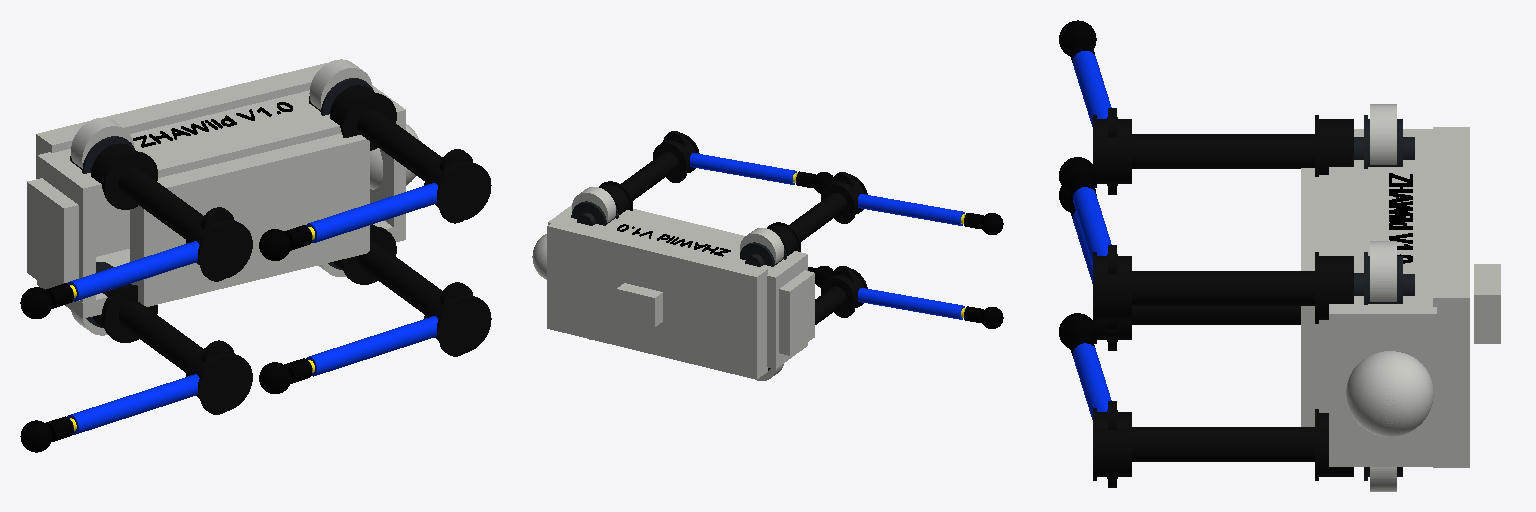
The robot description file, URDF, robot "zhawild_v1_0":
<?xml version="1.0"?>
<robot name="zhawild_v1_0" xmlns:texttocad="https://tom-cad.dev/ns/texttocad-urdf/1">
  <material name="alu_natural"><color rgba="0.78 0.78 0.76 1"/></material>
  <material name="carbon_black"><color rgba="0.08 0.08 0.08 1"/></material>
  <material name="actuator_dark"><color rgba="0.14 0.16 0.18 1"/></material>
  <material name="rubber_black"><color rgba="0.04 0.04 0.04 1"/></material>
  <material name="brand_black"><color rgba="0.005 0.005 0.005 1"/></material>
  <material name="sensor_grey"><color rgba="0.55 0.57 0.58 1"/></material>
  <material name="debug_clevis_magenta"><color rgba="0.95 0.10 0.85 1"/></material>
  <material name="debug_shank_blue"><color rgba="0.05 0.25 1.00 1"/></material>
  <material name="debug_ankle_orange"><color rgba="1.00 0.45 0.02 1"/></material>
  <material name="debug_spring_yellow"><color rgba="1.00 0.92 0.05 1"/></material>

  <link name="base_link">
    <inertial>
      <origin xyz="0 0.52 0" rpy="0 0 0"/>
      <mass value="17.5"/>
      <inertia ixx="0.128479" ixy="0" ixz="0" iyy="0.707292" iyz="0" izz="0.653479"/>
    </inertial>
    <visual>
      <origin xyz="0 0.52 0" rpy="0 0 0"/>
      <geometry><mesh filename="quadruped2_torso.stl"/></geometry>
      <material name="alu_natural"/>
    </visual>
    <visual>
      <origin xyz="0 0.545 0.128" rpy="0 0 0"/>
      <geometry><mesh filename="quadruped2_label.stl"/></geometry>
      <material name="brand_black"/>
    </visual>
    <collision>
      <origin xyz="0 0.52 0" rpy="0 0 0"/>
      <geometry><box size="0.65 0.16 0.25"/></geometry>
    </collision>
  </link>

  <link name="fl_hip_link">
    <inertial>
      <origin xyz="0 -0.036 0" rpy="0 0 0"/>
      <mass value="0.8"/>
      <inertia ixx="0.00158747" ixy="0" ixz="0" iyy="0.0009216" iyz="0" izz="0.00158747"/>
    </inertial>
    <visual>
      <geometry><mesh filename="quadruped2_hip.stl"/></geometry>
      <material name="actuator_dark"/>
    </visual>
    <collision>
      <origin xyz="0 -0.036 0" rpy="1.5708 0 0"/>
      <geometry><cylinder radius="0.054" length="0.13"/></geometry>
    </collision>
  </link>

  <link name="fl_thigh_link">
    <inertial>
      <origin xyz="0 -0.165 0" rpy="0 0 0"/>
      <mass value="1.6"/>
      <inertia ixx="0.0154416" ixy="0" ixz="0" iyy="0.0018432" iyz="0" izz="0.0154416"/>
    </inertial>
    <visual>
      <geometry><mesh filename="quadruped2_thigh.stl"/></geometry>
      <material name="carbon_black"/>
    </visual>
    <collision>
      <origin xyz="0 -0.165 0" rpy="1.5708 0 0"/>
      <geometry><cylinder radius="0.054" length="0.33"/></geometry>
    </collision>
  </link>

  <link name="fl_shank_link">
    <inertial>
      <origin xyz="0 -0.165 0" rpy="0 0 0"/>
      <mass value="1"/>
      <inertia ixx="0.009156" ixy="0" ixz="0" iyy="0.000162" iyz="0" izz="0.009156"/>
    </inertial>
    <visual>
      <geometry><mesh filename="quadruped2_shank_clevis.stl"/></geometry>
      <material name="debug_clevis_magenta"/>
    </visual>
    <visual>
      <geometry><mesh filename="quadruped2_shank_tube.stl"/></geometry>
      <material name="debug_shank_blue"/>
    </visual>
    <visual>
      <geometry><mesh filename="quadruped2_shank_ankle_cube.stl"/></geometry>
      <material name="debug_ankle_orange"/>
    </visual>
    <visual>
      <geometry><mesh filename="quadruped2_shank_spring_stub.stl"/></geometry>
      <material name="debug_spring_yellow"/>
    </visual>
    <collision>
      <origin xyz="0 -0.165 0" rpy="1.5708 0 0"/>
      <geometry><cylinder radius="0.024" length="0.33"/></geometry>
    </collision>
  </link>

  <link name="fl_foot_link">
    <inertial>
      <origin xyz="0 -0.068 0" rpy="0 0 0"/>
      <mass value="0.18"/>
      <inertia ixx="5.6448e-05" ixy="0" ixz="0" iyy="5.6448e-05" iyz="0" izz="5.6448e-05"/>
    </inertial>
    <visual>
      <geometry><mesh filename="quadruped2_foot.stl"/></geometry>
      <material name="rubber_black"/>
    </visual>
    <collision>
      <origin xyz="0 -0.068 0" rpy="0 0 0"/>
      <geometry><sphere radius="0.028"/></geometry>
    </collision>
  </link>

  <link name="fr_hip_link">
    <inertial>
      <origin xyz="0 -0.036 0" rpy="0 0 0"/>
      <mass value="0.8"/>
      <inertia ixx="0.00158747" ixy="0" ixz="0" iyy="0.0009216" iyz="0" izz="0.00158747"/>
    </inertial>
    <visual>
      <geometry><mesh filename="quadruped2_hip.stl"/></geometry>
      <material name="actuator_dark"/>
    </visual>
    <collision>
      <origin xyz="0 -0.036 0" rpy="1.5708 0 0"/>
      <geometry><cylinder radius="0.054" length="0.13"/></geometry>
    </collision>
  </link>

  <link name="fr_thigh_link">
    <inertial>
      <origin xyz="0 -0.165 0" rpy="0 0 0"/>
      <mass value="1.6"/>
      <inertia ixx="0.0154416" ixy="0" ixz="0" iyy="0.0018432" iyz="0" izz="0.0154416"/>
    </inertial>
    <visual>
      <geometry><mesh filename="quadruped2_thigh.stl"/></geometry>
      <material name="carbon_black"/>
    </visual>
    <collision>
      <origin xyz="0 -0.165 0" rpy="1.5708 0 0"/>
      <geometry><cylinder radius="0.054" length="0.33"/></geometry>
    </collision>
  </link>

  <link name="fr_shank_link">
    <inertial>
      <origin xyz="0 -0.165 0" rpy="0 0 0"/>
      <mass value="1"/>
      <inertia ixx="0.009156" ixy="0" ixz="0" iyy="0.000162" iyz="0" izz="0.009156"/>
    </inertial>
    <visual>
      <geometry><mesh filename="quadruped2_shank_clevis.stl"/></geometry>
      <material name="debug_clevis_magenta"/>
    </visual>
    <visual>
      <geometry><mesh filename="quadruped2_shank_tube.stl"/></geometry>
      <material name="debug_shank_blue"/>
    </visual>
    <visual>
      <geometry><mesh filename="quadruped2_shank_ankle_cube.stl"/></geometry>
      <material name="debug_ankle_orange"/>
    </visual>
    <visual>
      <geometry><mesh filename="quadruped2_shank_spring_stub.stl"/></geometry>
      <material name="debug_spring_yellow"/>
    </visual>
    <collision>
      <origin xyz="0 -0.165 0" rpy="1.5708 0 0"/>
      <geometry><cylinder radius="0.024" length="0.33"/></geometry>
    </collision>
  </link>

  <link name="fr_foot_link">
    <inertial>
      <origin xyz="0 -0.068 0" rpy="0 0 0"/>
      <mass value="0.18"/>
      <inertia ixx="5.6448e-05" ixy="0" ixz="0" iyy="5.6448e-05" iyz="0" izz="5.6448e-05"/>
    </inertial>
    <visual>
      <geometry><mesh filename="quadruped2_foot.stl"/></geometry>
      <material name="rubber_black"/>
    </visual>
    <collision>
      <origin xyz="0 -0.068 0" rpy="0 0 0"/>
      <geometry><sphere radius="0.028"/></geometry>
    </collision>
  </link>

  <link name="rl_hip_link">
    <inertial>
      <origin xyz="0 -0.036 0" rpy="0 0 0"/>
      <mass value="0.8"/>
      <inertia ixx="0.00158747" ixy="0" ixz="0" iyy="0.0009216" iyz="0" izz="0.00158747"/>
    </inertial>
    <visual>
      <geometry><mesh filename="quadruped2_hip.stl"/></geometry>
      <material name="actuator_dark"/>
    </visual>
    <collision>
      <origin xyz="0 -0.036 0" rpy="1.5708 0 0"/>
      <geometry><cylinder radius="0.054" length="0.13"/></geometry>
    </collision>
  </link>

  <link name="rl_thigh_link">
    <inertial>
      <origin xyz="0 -0.165 0" rpy="0 0 0"/>
      <mass value="1.6"/>
      <inertia ixx="0.0154416" ixy="0" ixz="0" iyy="0.0018432" iyz="0" izz="0.0154416"/>
    </inertial>
    <visual>
      <geometry><mesh filename="quadruped2_thigh.stl"/></geometry>
      <material name="carbon_black"/>
    </visual>
    <collision>
      <origin xyz="0 -0.165 0" rpy="1.5708 0 0"/>
      <geometry><cylinder radius="0.054" length="0.33"/></geometry>
    </collision>
  </link>

  <link name="rl_shank_link">
    <inertial>
      <origin xyz="0 -0.165 0" rpy="0 0 0"/>
      <mass value="1"/>
      <inertia ixx="0.009156" ixy="0" ixz="0" iyy="0.000162" iyz="0" izz="0.009156"/>
    </inertial>
    <visual>
      <geometry><mesh filename="quadruped2_shank_clevis.stl"/></geometry>
      <material name="debug_clevis_magenta"/>
    </visual>
    <visual>
      <geometry><mesh filename="quadruped2_shank_tube.stl"/></geometry>
      <material name="debug_shank_blue"/>
    </visual>
    <visual>
      <geometry><mesh filename="quadruped2_shank_ankle_cube.stl"/></geometry>
      <material name="debug_ankle_orange"/>
    </visual>
    <visual>
      <geometry><mesh filename="quadruped2_shank_spring_stub.stl"/></geometry>
      <material name="debug_spring_yellow"/>
    </visual>
    <collision>
      <origin xyz="0 -0.165 0" rpy="1.5708 0 0"/>
      <geometry><cylinder radius="0.024" length="0.33"/></geometry>
    </collision>
  </link>

  <link name="rl_foot_link">
    <inertial>
      <origin xyz="0 -0.068 0" rpy="0 0 0"/>
      <mass value="0.18"/>
      <inertia ixx="5.6448e-05" ixy="0" ixz="0" iyy="5.6448e-05" iyz="0" izz="5.6448e-05"/>
    </inertial>
    <visual>
      <geometry><mesh filename="quadruped2_foot.stl"/></geometry>
      <material name="rubber_black"/>
    </visual>
    <collision>
      <origin xyz="0 -0.068 0" rpy="0 0 0"/>
      <geometry><sphere radius="0.028"/></geometry>
    </collision>
  </link>

  <link name="rr_hip_link">
    <inertial>
      <origin xyz="0 -0.036 0" rpy="0 0 0"/>
      <mass value="0.8"/>
      <inertia ixx="0.00158747" ixy="0" ixz="0" iyy="0.0009216" iyz="0" izz="0.00158747"/>
    </inertial>
    <visual>
      <geometry><mesh filename="quadruped2_hip.stl"/></geometry>
      <material name="actuator_dark"/>
    </visual>
    <collision>
      <origin xyz="0 -0.036 0" rpy="1.5708 0 0"/>
      <geometry><cylinder radius="0.054" length="0.13"/></geometry>
    </collision>
  </link>

  <link name="rr_thigh_link">
    <inertial>
      <origin xyz="0 -0.165 0" rpy="0 0 0"/>
      <mass value="1.6"/>
      <inertia ixx="0.0154416" ixy="0" ixz="0" iyy="0.0018432" iyz="0" izz="0.0154416"/>
    </inertial>
    <visual>
      <geometry><mesh filename="quadruped2_thigh.stl"/></geometry>
      <material name="carbon_black"/>
    </visual>
    <collision>
      <origin xyz="0 -0.165 0" rpy="1.5708 0 0"/>
      <geometry><cylinder radius="0.054" length="0.33"/></geometry>
    </collision>
  </link>

  <link name="rr_shank_link">
    <inertial>
      <origin xyz="0 -0.165 0" rpy="0 0 0"/>
      <mass value="1"/>
      <inertia ixx="0.009156" ixy="0" ixz="0" iyy="0.000162" iyz="0" izz="0.009156"/>
    </inertial>
    <visual>
      <geometry><mesh filename="quadruped2_shank_clevis.stl"/></geometry>
      <material name="debug_clevis_magenta"/>
    </visual>
    <visual>
      <geometry><mesh filename="quadruped2_shank_tube.stl"/></geometry>
      <material name="debug_shank_blue"/>
    </visual>
    <visual>
      <geometry><mesh filename="quadruped2_shank_ankle_cube.stl"/></geometry>
      <material name="debug_ankle_orange"/>
    </visual>
    <visual>
      <geometry><mesh filename="quadruped2_shank_spring_stub.stl"/></geometry>
      <material name="debug_spring_yellow"/>
    </visual>
    <collision>
      <origin xyz="0 -0.165 0" rpy="1.5708 0 0"/>
      <geometry><cylinder radius="0.024" length="0.33"/></geometry>
    </collision>
  </link>

  <link name="rr_foot_link">
    <inertial>
      <origin xyz="0 -0.068 0" rpy="0 0 0"/>
      <mass value="0.18"/>
      <inertia ixx="5.6448e-05" ixy="0" ixz="0" iyy="5.6448e-05" iyz="0" izz="5.6448e-05"/>
    </inertial>
    <visual>
      <geometry><mesh filename="quadruped2_foot.stl"/></geometry>
      <material name="rubber_black"/>
    </visual>
    <collision>
      <origin xyz="0 -0.068 0" rpy="0 0 0"/>
      <geometry><sphere radius="0.028"/></geometry>
    </collision>
  </link>

  <joint name="fl_haa" type="revolute">
    <parent link="base_link"/><child link="fl_hip_link"/>
    <origin xyz="0.24 0.52 0.128" rpy="0 0 0"/>
    <axis xyz="1 0 0"/>
    <limit lower="-0.663" upper="0.663" effort="80" velocity="12"/>
    <dynamics damping="0.1" friction="0.03"/>
  </joint>

  <joint name="fl_hfe" type="revolute">
    <parent link="fl_hip_link"/><child link="fl_thigh_link"/>
    <origin xyz="0 -0.072 0" rpy="0 0 0"/>
    <axis xyz="0 0 1"/>
    <limit lower="-0.349" upper="1.92" effort="120" velocity="15"/>
    <dynamics damping="0.12" friction="0.03"/>
  </joint>

  <joint name="fl_kfe" type="revolute">
    <parent link="fl_thigh_link"/><child link="fl_shank_link"/>
    <origin xyz="0 -0.33 0" rpy="0 0 0"/>
    <axis xyz="0 0 1"/>
    <limit lower="-2.705" upper="-0.175" effort="120" velocity="15"/>
    <dynamics damping="0.1" friction="0.03"/>
  </joint>

  <joint name="fl_foot_fixed" type="fixed">
    <parent link="fl_shank_link"/><child link="fl_foot_link"/>
    <origin xyz="0 -0.33 0" rpy="0 0 0"/>
  </joint>

  <joint name="fr_haa" type="revolute">
    <parent link="base_link"/><child link="fr_hip_link"/>
    <origin xyz="0.24 0.52 -0.128" rpy="0 0 0"/>
    <axis xyz="1 0 0"/>
    <limit lower="-0.663" upper="0.663" effort="80" velocity="12"/>
    <dynamics damping="0.1" friction="0.03"/>
  </joint>

  <joint name="fr_hfe" type="revolute">
    <parent link="fr_hip_link"/><child link="fr_thigh_link"/>
    <origin xyz="0 -0.072 0" rpy="0 0 0"/>
    <axis xyz="0 0 1"/>
    <limit lower="-0.349" upper="1.92" effort="120" velocity="15"/>
    <dynamics damping="0.12" friction="0.03"/>
  </joint>

  <joint name="fr_kfe" type="revolute">
    <parent link="fr_thigh_link"/><child link="fr_shank_link"/>
    <origin xyz="0 -0.33 0" rpy="0 0 0"/>
    <axis xyz="0 0 1"/>
    <limit lower="-2.705" upper="-0.175" effort="120" velocity="15"/>
    <dynamics damping="0.1" friction="0.03"/>
  </joint>

  <joint name="fr_foot_fixed" type="fixed">
    <parent link="fr_shank_link"/><child link="fr_foot_link"/>
    <origin xyz="0 -0.33 0" rpy="0 0 0"/>
  </joint>

  <joint name="rl_haa" type="revolute">
    <parent link="base_link"/><child link="rl_hip_link"/>
    <origin xyz="-0.24 0.52 0.128" rpy="0 0 0"/>
    <axis xyz="1 0 0"/>
    <limit lower="-0.663" upper="0.663" effort="80" velocity="12"/>
    <dynamics damping="0.1" friction="0.03"/>
  </joint>

  <joint name="rl_hfe" type="revolute">
    <parent link="rl_hip_link"/><child link="rl_thigh_link"/>
    <origin xyz="0 -0.072 0" rpy="0 0 0"/>
    <axis xyz="0 0 1"/>
    <limit lower="-0.349" upper="1.92" effort="120" velocity="15"/>
    <dynamics damping="0.12" friction="0.03"/>
  </joint>

  <joint name="rl_kfe" type="revolute">
    <parent link="rl_thigh_link"/><child link="rl_shank_link"/>
    <origin xyz="0 -0.33 0" rpy="0 0 0"/>
    <axis xyz="0 0 1"/>
    <limit lower="-2.705" upper="-0.175" effort="120" velocity="15"/>
    <dynamics damping="0.1" friction="0.03"/>
  </joint>

  <joint name="rl_foot_fixed" type="fixed">
    <parent link="rl_shank_link"/><child link="rl_foot_link"/>
    <origin xyz="0 -0.33 0" rpy="0 0 0"/>
  </joint>

  <joint name="rr_haa" type="revolute">
    <parent link="base_link"/><child link="rr_hip_link"/>
    <origin xyz="-0.24 0.52 -0.128" rpy="0 0 0"/>
    <axis xyz="1 0 0"/>
    <limit lower="-0.663" upper="0.663" effort="80" velocity="12"/>
    <dynamics damping="0.1" friction="0.03"/>
  </joint>

  <joint name="rr_hfe" type="revolute">
    <parent link="rr_hip_link"/><child link="rr_thigh_link"/>
    <origin xyz="0 -0.072 0" rpy="0 0 0"/>
    <axis xyz="0 0 1"/>
    <limit lower="-0.349" upper="1.92" effort="120" velocity="15"/>
    <dynamics damping="0.12" friction="0.03"/>
  </joint>

  <joint name="rr_kfe" type="revolute">
    <parent link="rr_thigh_link"/><child link="rr_shank_link"/>
    <origin xyz="0 -0.33 0" rpy="0 0 0"/>
    <axis xyz="0 0 1"/>
    <limit lower="-2.705" upper="-0.175" effort="120" velocity="15"/>
    <dynamics damping="0.1" friction="0.03"/>
  </joint>

  <joint name="rr_foot_fixed" type="fixed">
    <parent link="rr_shank_link"/><child link="rr_foot_link"/>
    <origin xyz="0 -0.33 0" rpy="0 0 0"/>
  </joint>

  <texttocad:poses>

    <!-- Nominal standing, ~0.52 m hip height, slight knee bend -->
    <texttocad:pose name="neutral_stand">
      <texttocad:joint name="fl_haa" value="5"/>
      <texttocad:joint name="fl_hfe" value="38"/>
      <texttocad:joint name="fl_kfe" value="-76"/>
      <texttocad:joint name="fr_haa" value="-5"/>
      <texttocad:joint name="fr_hfe" value="38"/>
      <texttocad:joint name="fr_kfe" value="-76"/>
      <texttocad:joint name="rl_haa" value="5"/>
      <texttocad:joint name="rl_hfe" value="-10"/>
      <texttocad:joint name="rl_kfe" value="-60"/>
      <texttocad:joint name="rr_haa" value="-5"/>
      <texttocad:joint name="rr_hfe" value="-10"/>
      <texttocad:joint name="rr_kfe" value="-60"/>
    </texttocad:pose>

    <!-- Trot gait snapshot: FL+RR swing, FR+RL stance -->
    <texttocad:pose name="trot_preview">
      <texttocad:joint name="fl_haa" value="3"/>
      <texttocad:joint name="fl_hfe" value="58"/>
      <texttocad:joint name="fl_kfe" value="-110"/>
      <texttocad:joint name="fr_haa" value="-3"/>
      <texttocad:joint name="fr_hfe" value="28"/>
      <texttocad:joint name="fr_kfe" value="-55"/>
      <texttocad:joint name="rl_haa" value="3"/>
      <texttocad:joint name="rl_hfe" value="-8"/>
      <texttocad:joint name="rl_kfe" value="-50"/>
      <texttocad:joint name="rr_haa" value="-3"/>
      <texttocad:joint name="rr_hfe" value="20"/>
      <texttocad:joint name="rr_kfe" value="-88"/>
    </texttocad:pose>

    <!-- Low crouch / pre-jump -->
    <texttocad:pose name="crouch">
      <texttocad:joint name="fl_haa" value="6"/>
      <texttocad:joint name="fl_hfe" value="72"/>
      <texttocad:joint name="fl_kfe" value="-144"/>
      <texttocad:joint name="fr_haa" value="-6"/>
      <texttocad:joint name="fr_hfe" value="72"/>
      <texttocad:joint name="fr_kfe" value="-144"/>
      <texttocad:joint name="rl_haa" value="6"/>
      <texttocad:joint name="rl_hfe" value="38"/>
      <texttocad:joint name="rl_kfe" value="-130"/>
      <texttocad:joint name="rr_haa" value="-6"/>
      <texttocad:joint name="rr_hfe" value="38"/>
      <texttocad:joint name="rr_kfe" value="-130"/>
    </texttocad:pose>

    <!-- Sit: hindlegs folded, forelegs extended -->
    <texttocad:pose name="sit">
      <texttocad:joint name="fl_haa" value="4"/>
      <texttocad:joint name="fl_hfe" value="20"/>
      <texttocad:joint name="fl_kfe" value="-40"/>
      <texttocad:joint name="fr_haa" value="-4"/>
      <texttocad:joint name="fr_hfe" value="20"/>
      <texttocad:joint name="fr_kfe" value="-40"/>
      <texttocad:joint name="rl_haa" value="8"/>
      <texttocad:joint name="rl_hfe" value="90"/>
      <texttocad:joint name="rl_kfe" value="-148"/>
      <texttocad:joint name="rr_haa" value="-8"/>
      <texttocad:joint name="rr_hfe" value="90"/>
      <texttocad:joint name="rr_kfe" value="-148"/>
    </texttocad:pose>

  </texttocad:poses>
</robot>

--- What the picture shows (computed from the rendered views, not written in the file) ---
The picture shows the robot from 3 angles, left to right: view 1: azimuth 30°, elevation 25°; view 2: azimuth 150°, elevation 25°; view 3: azimuth 270°, elevation 25°; orthographic projection.
Model zhawild_v1_0 with 17 links and 16 joints (12 revolute, 4 fixed), rooted at base_link, posed joints at zero except 4 at the middle of their limits (fl_kfe = -1.44, fr_kfe = -1.44, rl_kfe = -1.44, rr_kfe = -1.44).
Visible links, largest first — view 1: base_link, rl_thigh_link, fl_thigh_link, rr_thigh_link, fr_thigh_link, fl_shank_link, fr_shank_link, rl_shank_link, rr_shank_link, fr_foot_link, rl_foot_link, fl_foot_link (+3 smaller); view 2: base_link, fl_thigh_link, rl_thigh_link, rr_thigh_link, fl_shank_link, rl_shank_link, rr_shank_link, fl_hip_link, rl_hip_link, rr_foot_link, rl_foot_link, fl_foot_link; view 3: base_link, fl_thigh_link, rl_thigh_link, fr_thigh_link, rr_thigh_link, fl_shank_link, fr_shank_link, rl_shank_link, rl_hip_link, fl_hip_link, fl_foot_link, rl_foot_link (+1 smaller).
Boxes of the visible links, bbox=[...] form: base_link: bbox=[27, 59, 419, 335]; rl_thigh_link: bbox=[91, 143, 252, 281]; fl_thigh_link: bbox=[330, 85, 491, 223]; rr_thigh_link: bbox=[93, 284, 252, 414]; fr_thigh_link: bbox=[333, 224, 491, 356]; fl_shank_link: bbox=[306, 183, 437, 242]; fr_shank_link: bbox=[306, 316, 437, 376]; rl_shank_link: bbox=[67, 241, 199, 301]; rr_shank_link: bbox=[67, 374, 199, 434]; fr_foot_link: bbox=[259, 358, 311, 393]; rl_foot_link: bbox=[20, 283, 73, 318]; fl_foot_link: bbox=[259, 225, 311, 260]; base_link: bbox=[532, 187, 814, 380]; fl_thigh_link: bbox=[599, 131, 699, 214]; rl_thigh_link: bbox=[767, 172, 867, 255]; rr_thigh_link: bbox=[815, 266, 867, 324]; fl_shank_link: bbox=[690, 153, 797, 184]; rl_shank_link: bbox=[858, 194, 965, 225]; rr_shank_link: bbox=[858, 288, 965, 319]; fl_hip_link: bbox=[571, 201, 618, 225]; rl_hip_link: bbox=[740, 242, 786, 266]; rr_foot_link: bbox=[964, 306, 1003, 328]; rl_foot_link: bbox=[964, 213, 1003, 234]; fl_foot_link: bbox=[796, 171, 832, 193]; base_link: bbox=[1301, 104, 1500, 491]; fl_thigh_link: bbox=[1093, 245, 1353, 331]; rl_thigh_link: bbox=[1093, 108, 1353, 194]; fr_thigh_link: bbox=[1093, 401, 1353, 487]; rr_thigh_link: bbox=[1094, 306, 1300, 350]; fl_shank_link: bbox=[1073, 187, 1111, 263]; fr_shank_link: bbox=[1073, 343, 1111, 419]; rl_shank_link: bbox=[1073, 51, 1111, 126]; rl_hip_link: bbox=[1354, 115, 1414, 168]; fl_hip_link: bbox=[1354, 252, 1414, 304]; fl_foot_link: bbox=[1059, 157, 1096, 199]; rl_foot_link: bbox=[1059, 20, 1096, 62].
Bounding box of the posed robot: 1.06 × 0.6569 × 0.3999 m (x, y, z).
26 mesh visuals loaded from 9 distinct referenced files (8 binary STL); not drawn: 4 (reference not matched to a file when rendering).
